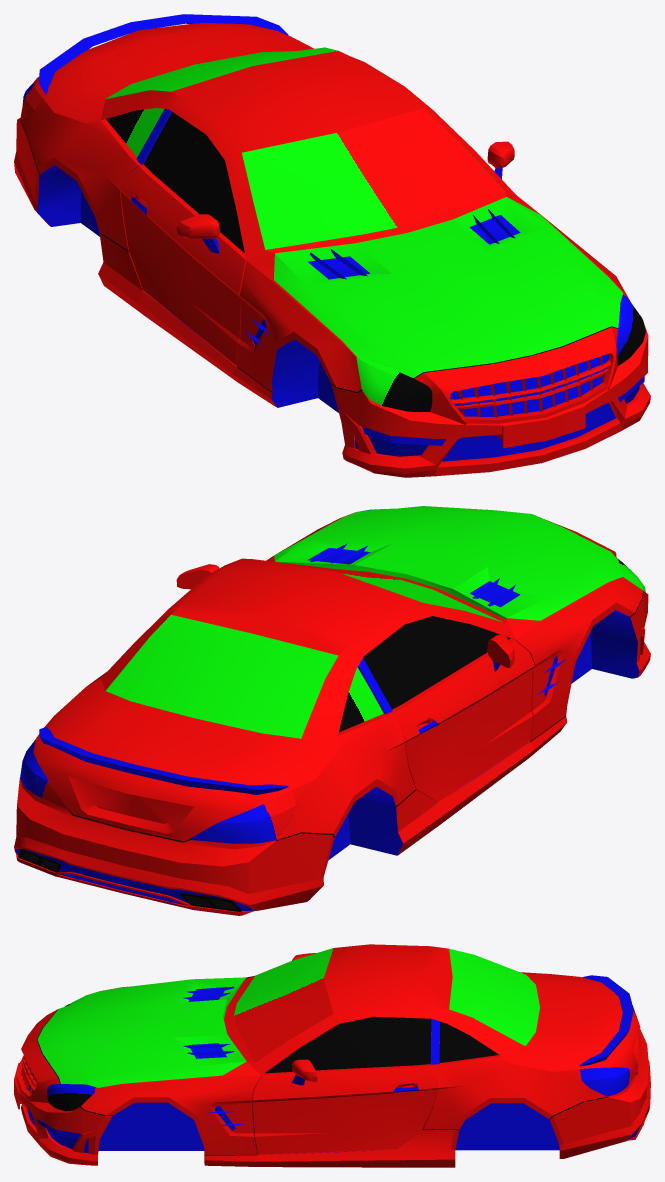
The model's file is roadster-lod1.glb.
The picture shows the model from 3 angles, top to bottom: view 1: azimuth 30°, elevation 25°; view 2: azimuth 150°, elevation 25°; view 3: azimuth 270°, elevation 25°; orthographic projection. The views are drawn at different scales.
Parts seen in each view (by area): view 1: body; view 2: body; view 3: body.
Boxes of the visible parts, x1,y1,x2,y2 form: body: (14, 14, 650, 477); body: (14, 506, 650, 915); body: (14, 944, 650, 1167).
Bounding box in the file's own units: 2.38 × 1.3 × 5.3.
3 materials, 3 textured.
